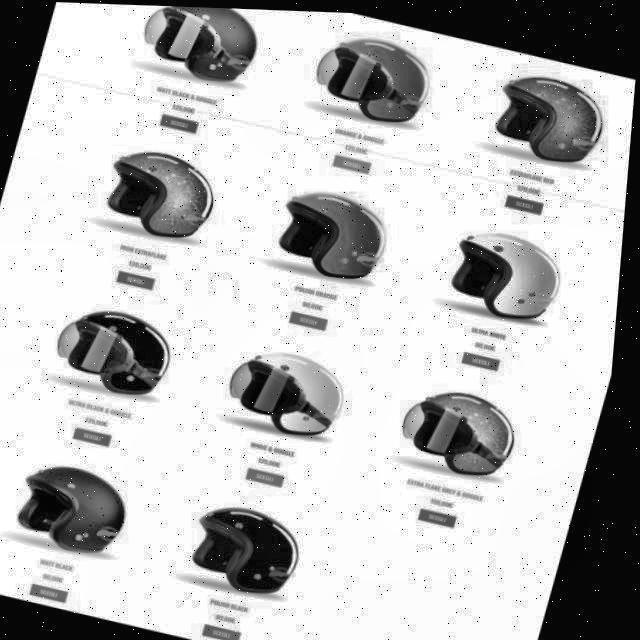Helmet: (220, 336, 365, 446), (394, 374, 536, 484), (303, 21, 444, 130), (267, 176, 403, 288), (442, 217, 578, 329), (50, 296, 190, 404), (14, 453, 150, 564), (97, 138, 231, 248), (188, 492, 322, 602), (482, 60, 618, 168), (131, 4, 270, 92)
